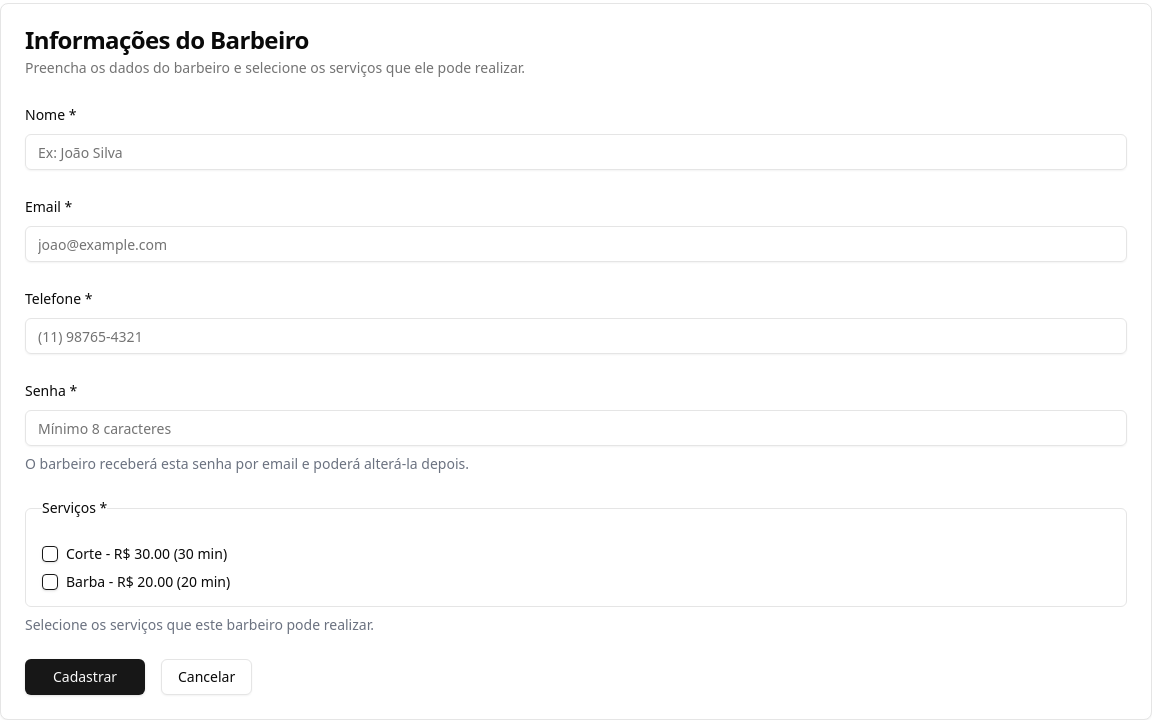
Test: BarbeiroFormPage › Create Mode › should validate required fields
(page scrolled)
Click the button "Cadastrar".
click(85, 677)  # box [25, 659, 145, 695]
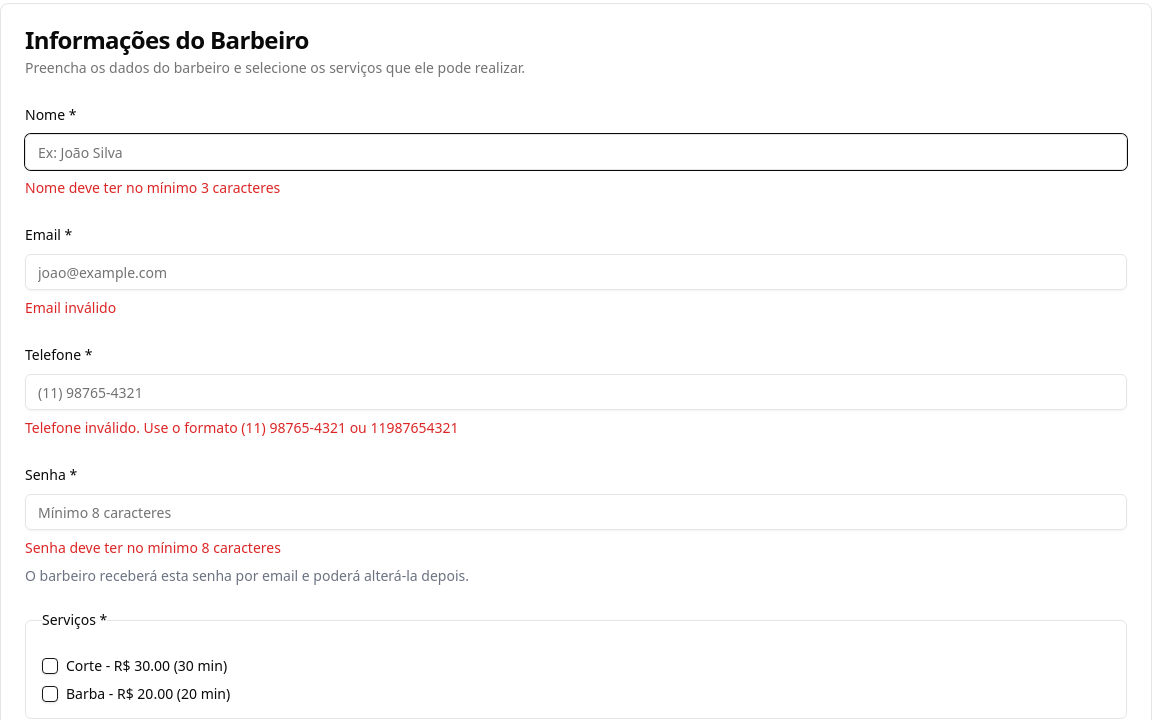
Now the text "Nome deve ter no mínimo 3 caracteres" is shown, box [25, 178, 280, 197]
